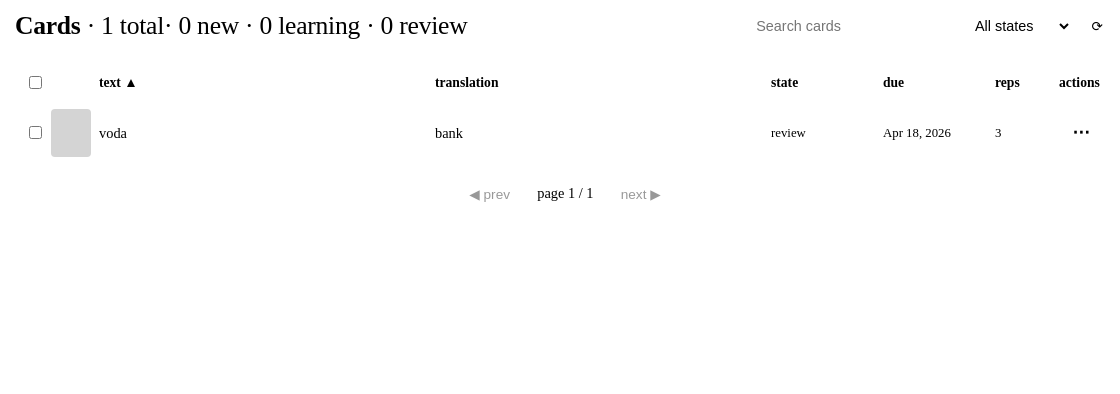
Test case: cards/+page.svelte › shows error.message when saveEdit rejects with an Error instance
Expected: the text "voda" is shown, x1=99 y1=124 x2=127 y2=140
What coordinates should you click on to do the following:
click the button "⋯"
I would click on:
 (1081, 133)
Its box is x1=1059 y1=119 x2=1103 y2=147.
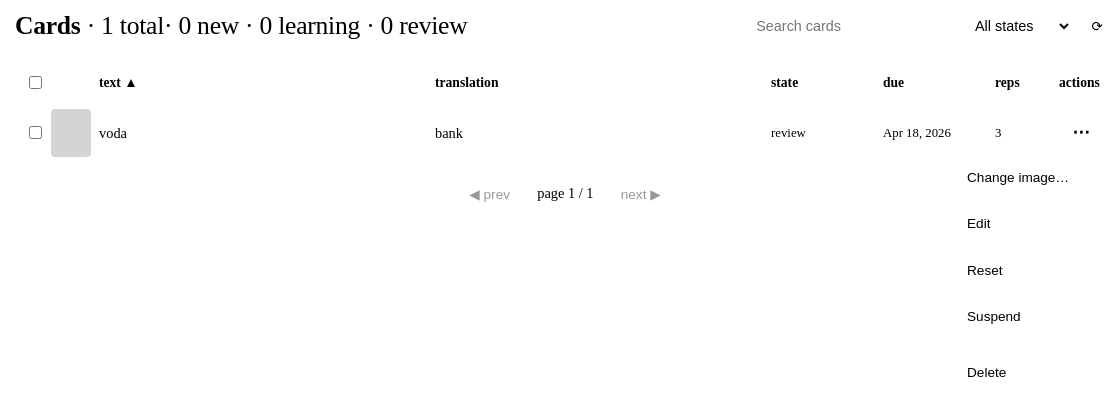
What coordinates should you click on to do the following:
click the menu item "Edit"
I would click on:
 (1027, 224)
Its box is x1=955 y1=202 x2=1099 y2=246.
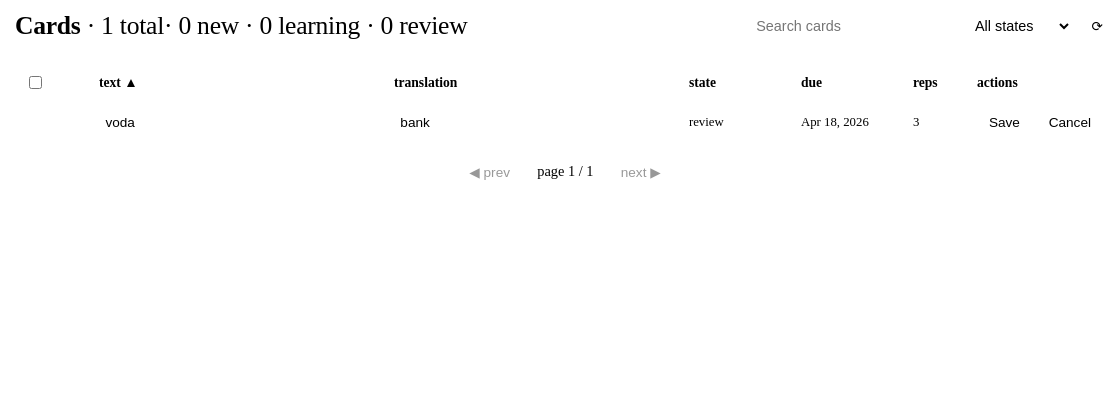
What coordinates should you click on to do the following:
click the button "Save"
I would click on:
 (1004, 122)
Its box is x1=977 y1=109 x2=1032 y2=135.
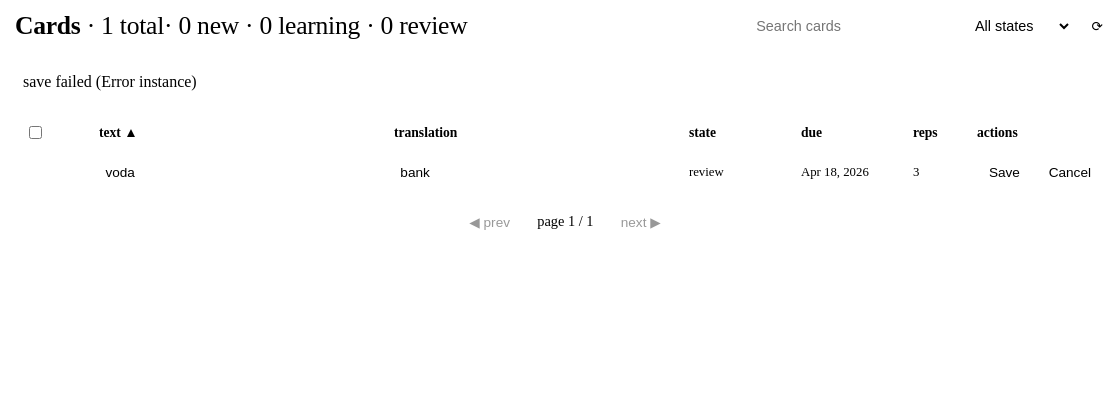
Now the text "save failed (Error instance)" is shown, box x1=23 y1=73 x2=197 y2=90
